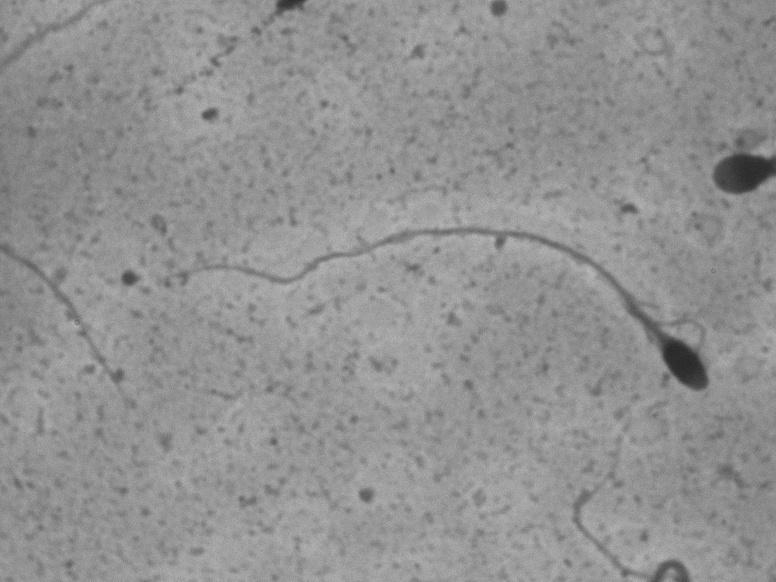Normal: (145, 218, 722, 408)
